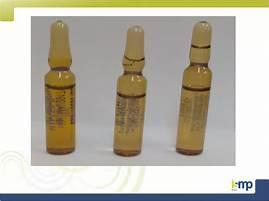Syringe: (171, 18, 218, 158), (40, 19, 84, 157), (110, 22, 149, 160)
